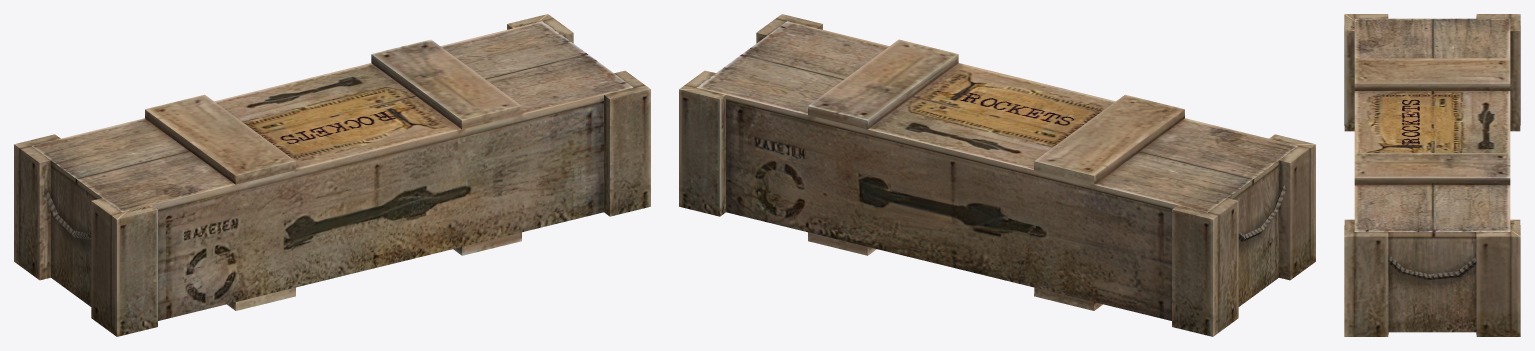
The model's file is VV_rockets.fbx.
3 renders of one model, left to right at view 1: azimuth 30°, elevation 25°; view 2: azimuth 150°, elevation 25°; view 3: azimuth 270°, elevation 25°, orthographic. The views are drawn at different scales.
Visible parts, largest first — view 1: VV_rockets; view 2: VV_rockets; view 3: VV_rockets.
Part boxes in pixels (x1,y1,x2,y2): VV_rockets: [14, 14, 650, 336]; VV_rockets: [679, 14, 1315, 336]; VV_rockets: [1344, 14, 1520, 336].
Bounding box in the file's own units: 179 × 43.39 × 59.92.
1 material, 1 textured.
